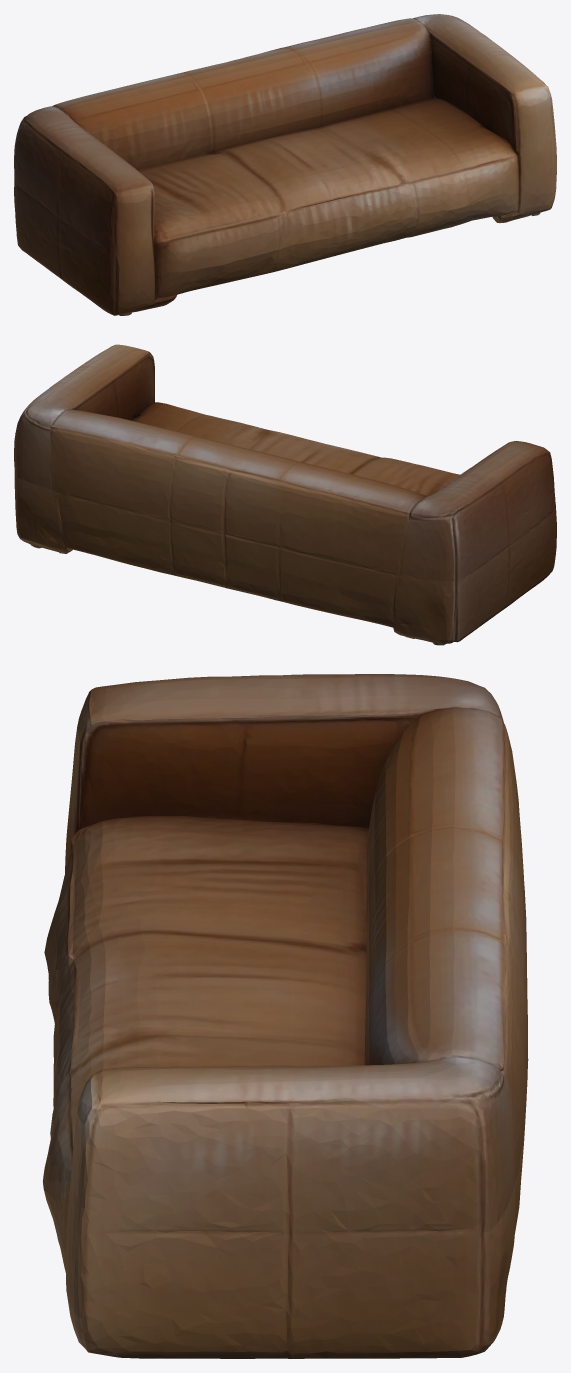
File: ast_d8f0d7606d01.glb
The picture shows the model from 3 angles, top to bottom: view 1: azimuth 30°, elevation 25°; view 2: azimuth 150°, elevation 25°; view 3: azimuth 270°, elevation 25°; orthographic projection. The views are drawn at different scales.
Visible parts, largest first — view 1: geometry_0; view 2: geometry_0; view 3: geometry_0.
Boxes of the visible parts, bbox=[...] form: geometry_0: bbox=[14, 14, 556, 315]; geometry_0: bbox=[14, 344, 556, 645]; geometry_0: bbox=[42, 674, 528, 1358].
Size of the model in its own units: 1 by 0.2962 by 0.4655.
1 material, 1 textured.
